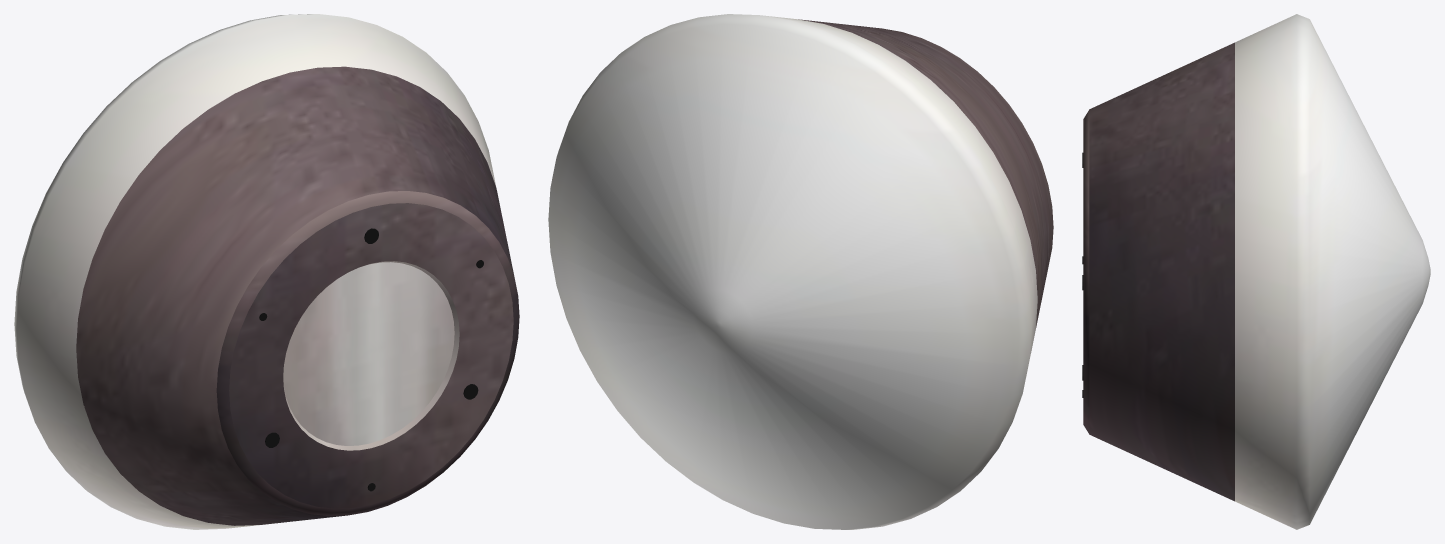
Rendered from stardust-2.glb.
3 renders of one model, left to right at view 1: azimuth 30°, elevation 25°; view 2: azimuth 150°, elevation 25°; view 3: azimuth 270°, elevation 25°, orthographic. The views are drawn at different scales.
Parts seen in each view (by area): view 1: Stardust_tex_01_c, Stardust_tex_01_c2, Stardust_tex_02_c; view 2: Stardust_tex_01_c2, Stardust_tex_01_c; view 3: Stardust_tex_01_c2, Stardust_tex_01_c.
Part boxes in pixels (left/top/right/bottom): Stardust_tex_01_c: left=76, top=66, right=519, bottom=525; Stardust_tex_01_c2: left=14, top=14, right=495, bottom=529; Stardust_tex_02_c: left=259, top=228, right=483, bottom=491; Stardust_tex_01_c2: left=548, top=14, right=1037, bottom=529; Stardust_tex_01_c: left=798, top=19, right=1053, bottom=327; Stardust_tex_01_c2: left=1235, top=14, right=1430, bottom=529; Stardust_tex_01_c: left=1083, top=42, right=1234, bottom=501.
Size of the model in its own units: 0.7232 by 0.7232 by 0.4877.
Materials: 3 (2 with a texture image).
